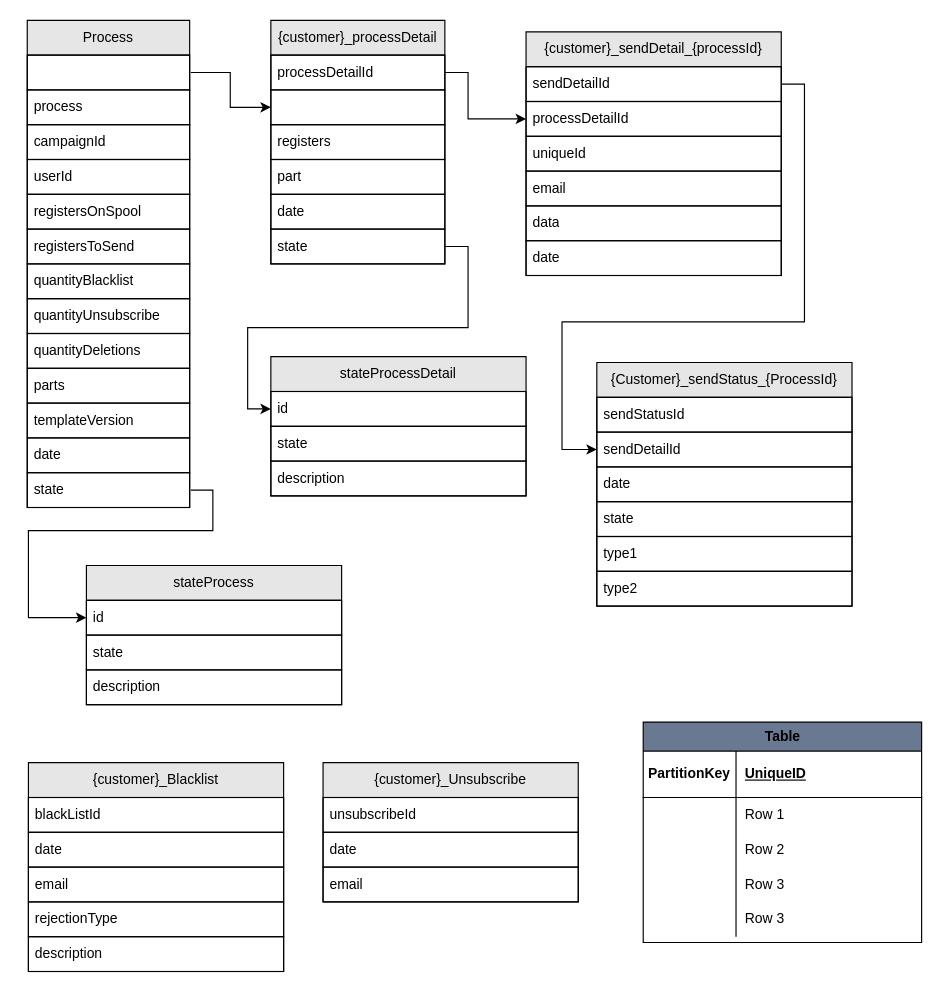
Image size: 942x992. Some labels were removed from this diagram. The shapes that lost their labels are listed below. From the top down, each one's centre as x and y in pixels, then its label:
At (108,72): "processId".
At (357,107): "processIId".
